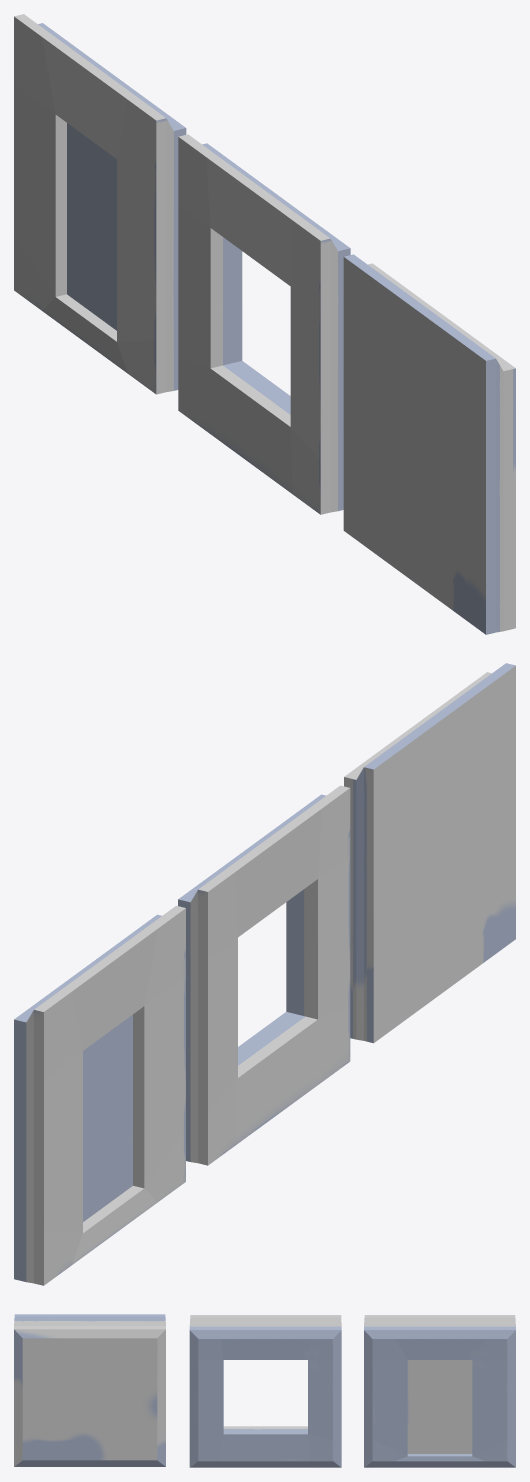
Rendered from walls.fbx.
3 renders of one model, top to bottom at view 1: azimuth 30°, elevation 25°; view 2: azimuth 150°, elevation 25°; view 3: azimuth 270°, elevation 25°, orthographic. The views are drawn at different scales.
Parts seen in each view (by area): view 1: Cube.001, Cube, Cube.002, Cube.003; view 2: Cube.001, Cube, Cube.002, Cube.003; view 3: Cube.001, Cube, Cube.002, Cube.003.
Boxes of the visible parts, box(x1,y1,x2,y2) form: Cube.001: box(343, 254, 515, 634); Cube: box(178, 134, 350, 514); Cube.002: box(14, 14, 186, 394); Cube.003: box(67, 123, 116, 330); Cube.001: box(344, 663, 515, 1043); Cube: box(178, 785, 350, 1165); Cube.002: box(14, 905, 185, 1285); Cube.003: box(83, 1014, 132, 1221); Cube.001: box(14, 1314, 165, 1466); Cube: box(189, 1315, 341, 1467); Cube.002: box(364, 1315, 515, 1467); Cube.003: box(407, 1360, 472, 1453).
Size of the model in its own units: 27.44 by 212 by 660.
3 materials, 3 textured.
